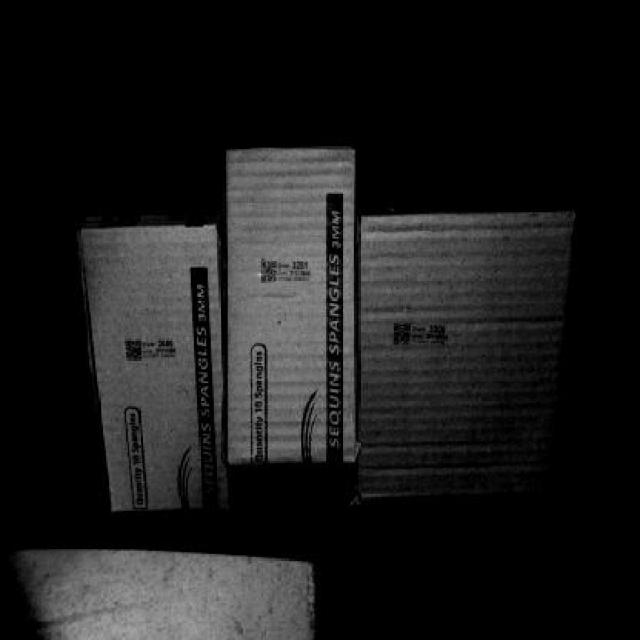cardboxes: (363, 217, 563, 500), (228, 149, 358, 462), (80, 229, 226, 505)
